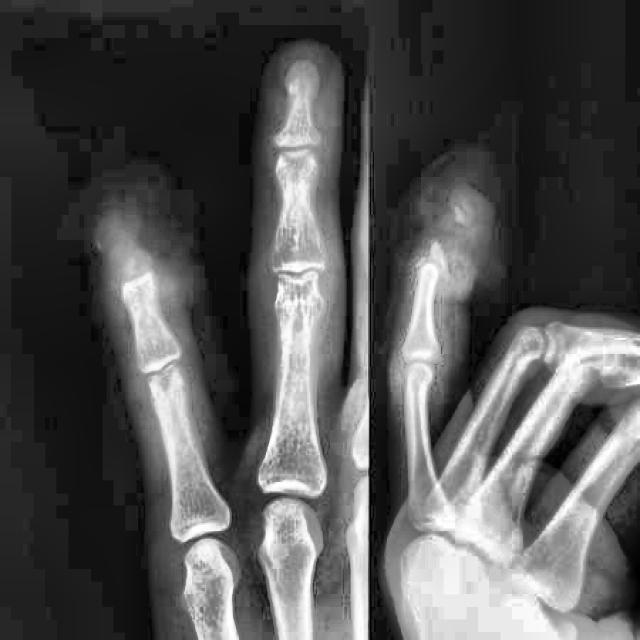fracture: (120, 251, 146, 272), (437, 238, 455, 266)
